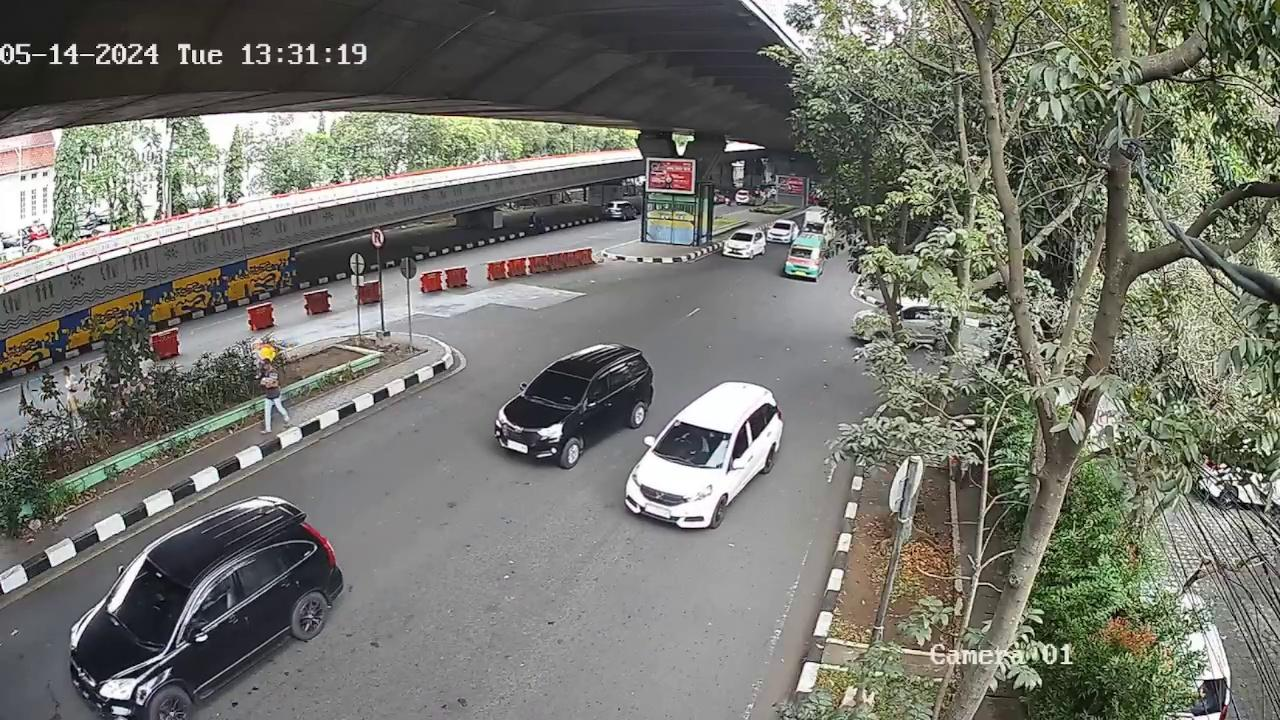tidak-pakai: (681, 430, 708, 458)
windshield: (105, 556, 193, 643), (518, 361, 594, 411), (659, 420, 732, 471)
